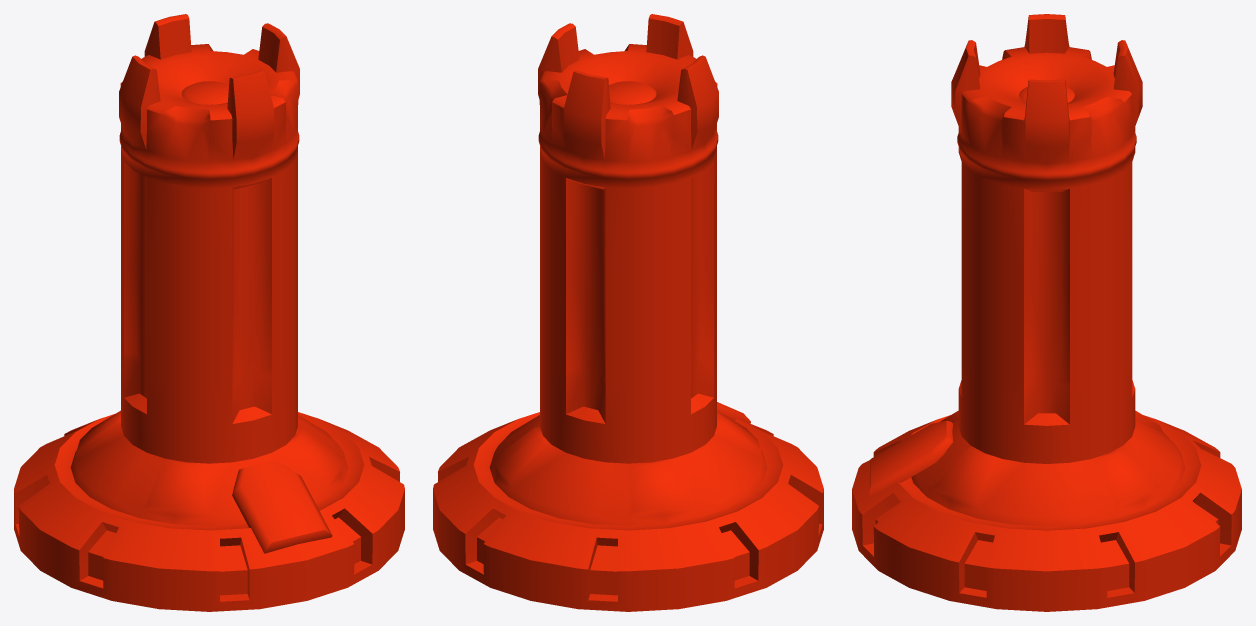
The model's file is ARA_Tower.fbx.
3 renders of one model, left to right at view 1: azimuth 30°, elevation 25°; view 2: azimuth 150°, elevation 25°; view 3: azimuth 270°, elevation 25°, orthographic.
Visible parts, largest first — view 1: ARA_Tower; view 2: ARA_Tower; view 3: ARA_Tower.
Boxes of the visible parts, left/top/right/bottom form: ARA_Tower: left=14, top=14, right=404, bottom=611; ARA_Tower: left=433, top=14, right=823, bottom=611; ARA_Tower: left=852, top=14, right=1241, bottom=611.
Size of the model in its own units: 86.99 by 119 by 86.99.
